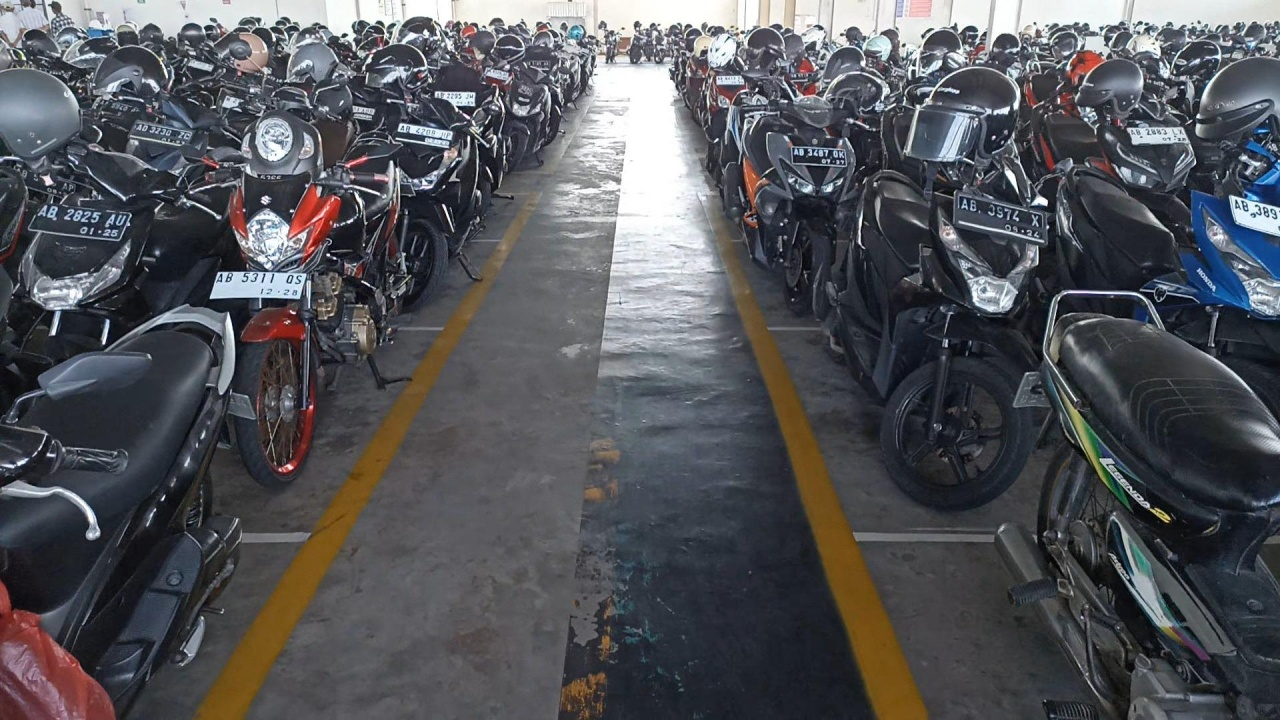plate: (956, 192, 1046, 246), (28, 202, 131, 241), (209, 272, 307, 299), (128, 119, 193, 148), (393, 122, 454, 150), (1126, 126, 1190, 145), (792, 147, 847, 167)
